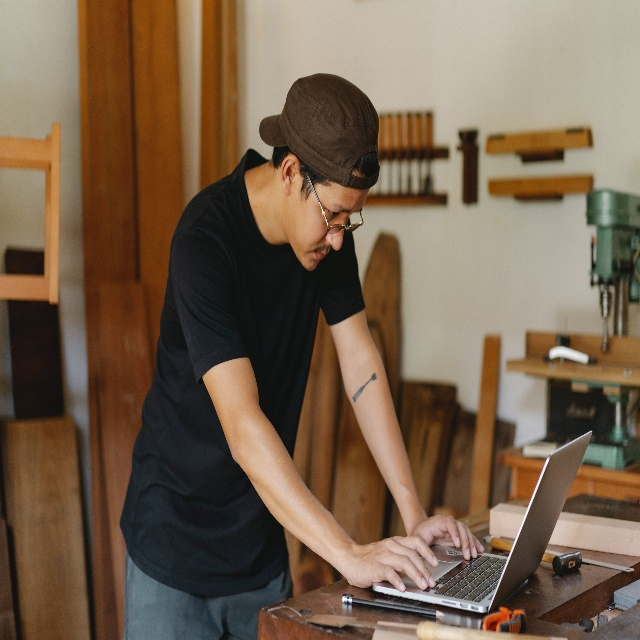Gafas: (306, 171, 364, 236)
Sin_guantes: (343, 534, 439, 593), (411, 513, 485, 561)
